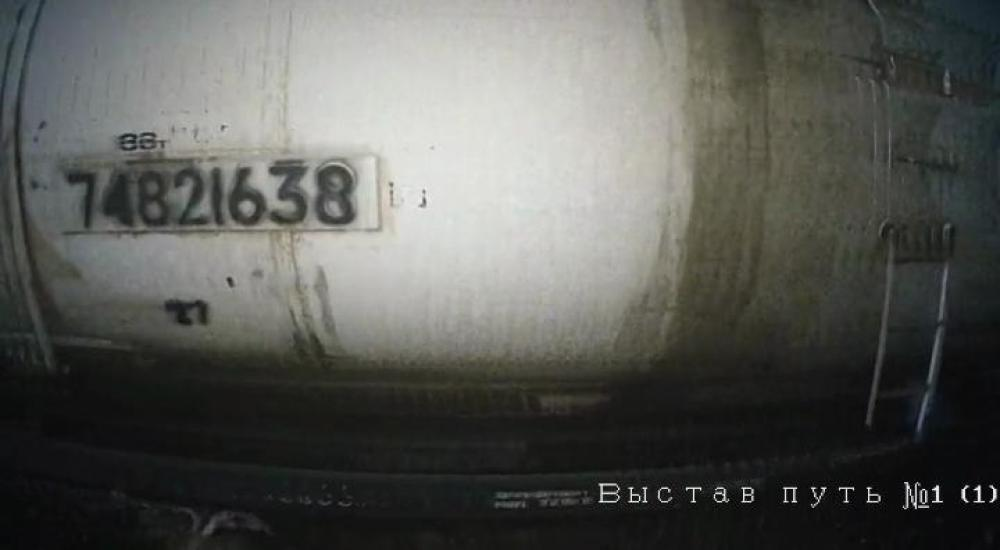Wagon-number: (61, 158, 363, 228)
